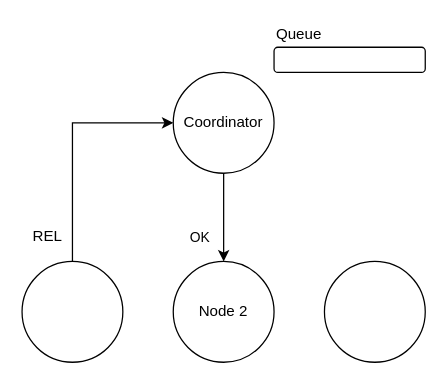
Image size: 447x384. Some labels were removed from this diagram. Each missing label, with the centre of its shape:
"Node 1" belongs at pixel 72 311.
"Node n" belongs at pixel 374 311.
